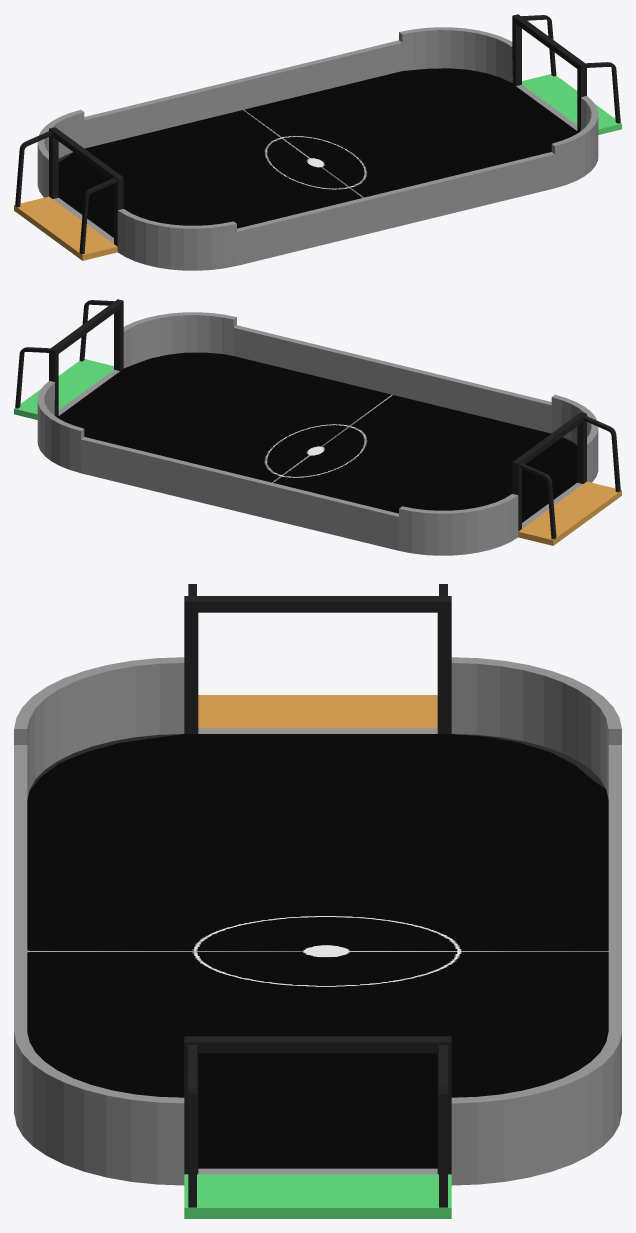
File: SoccerField.fbx
3 views of the same model, one above another, from view 1: azimuth 30°, elevation 25°; view 2: azimuth 150°, elevation 25°; view 3: azimuth 270°, elevation 25° (orthographic). The views are drawn at different scales.
Parts seen in each view (by area): view 1: Field, GoalTeamA, GoalTeamB; view 2: Field, GoalTeamA, GoalTeamB; view 3: Field, GoalTeamB, GoalTeamA.
Boxes of the visible parts, <box> form: Field: <box>15,14,620,270</box>; GoalTeamA: <box>14,196,117,260</box>; GoalTeamB: <box>522,74,621,134</box>; Field: <box>15,299,620,555</box>; GoalTeamA: <box>518,481,621,545</box>; GoalTeamB: <box>14,359,113,419</box>; Field: <box>14,584,621,1207</box>; GoalTeamB: <box>184,1174,451,1218</box>; GoalTeamA: <box>198,695,437,728</box>.
Bounding box in the file's own units: 1997 × 260 × 1000.
